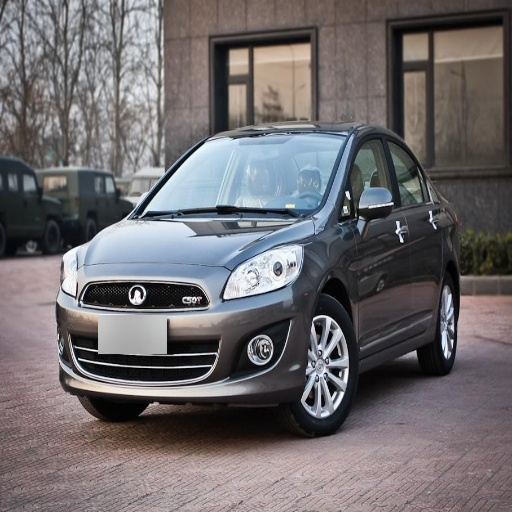front_bumper: (56, 267, 316, 404)
front_glass: (129, 133, 346, 219)
front_left_door: (342, 131, 410, 350)
